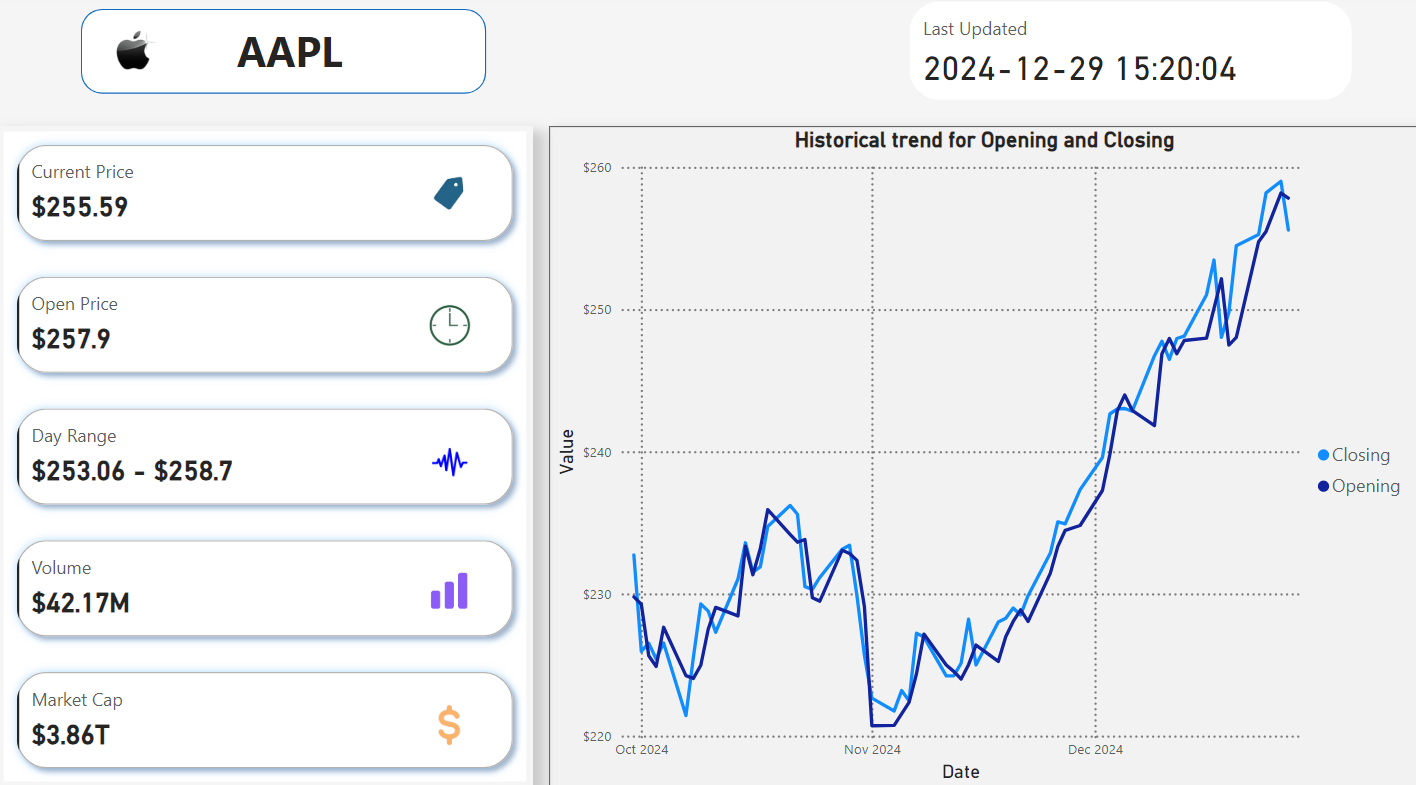

This screenshot's page, from the dashboard's own definition file:
{"tool":"powerbi","page":{"name":"Page 1","canvas":[1280,720],"ordinal":0},"visuals":[{"type":"lineChart","title":"Historical trend for Opening and Closing","fields":{"Category":["public historical_stock_data.date"],"Y":["Avg(public historical_stock_data.close)","Avg(public historical_stock_data.open)"]},"box":[0,297.1,1280.3,423.1],"z":0},{"type":"cardVisual","title":"Day High","fields":{"Data":["Sum(public live_stock.Day High)"]},"box":[72.1,72.1,232.3,184.6],"z":1000},{"type":"cardVisual","title":"Day Low","fields":{"Data":["Sum(public live_stock.Day Low)"]},"box":[671.3,72.1,244.6,184.6],"z":2000},{"type":"cardVisual","title":"Open Price","fields":{"Data":["Sum(public live_stock.open_price)"]},"box":[964.8,72.1,238.5,184.6],"z":3000},{"type":"cardVisual","title":"Current Price","fields":{"Data":["Sum(public live_stock.Current Price)"]},"box":[357.1,72.1,244.6,184.6],"z":4000},{"type":"multiRowCard","fields":{"Values":["public live_stock.time","public live_stock.ticker"]},"box":[0,0,1280.3,271.5],"z":5001}]}

Visuals, with their boxes in screenshot pixels (x1, y1, x2, y2), scaled from the page's 1280x720 canvas onto the 1416x785 screenshot:
"Historical trend for Opening and Closing" lineChart: [left=0, top=324, right=1415, bottom=784]
"Day High" cardVisual: [left=80, top=79, right=337, bottom=280]
"Day Low" cardVisual: [left=743, top=79, right=1013, bottom=280]
"Open Price" cardVisual: [left=1067, top=79, right=1331, bottom=280]
"Current Price" cardVisual: [left=395, top=79, right=666, bottom=280]
multiRowCard - public live_stock.time x public live_stock.ticker: [left=0, top=0, right=1415, bottom=296]
